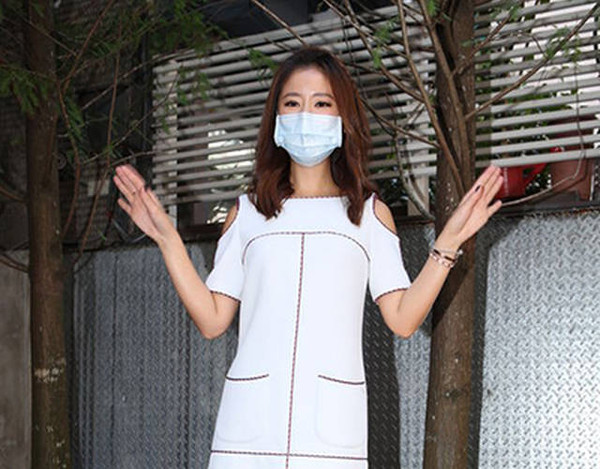face_mask: (277, 68, 342, 156)
